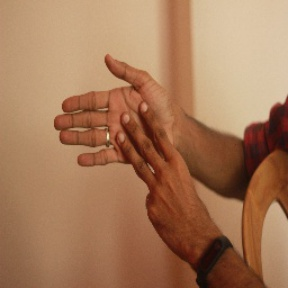M: (54, 50, 189, 209)
